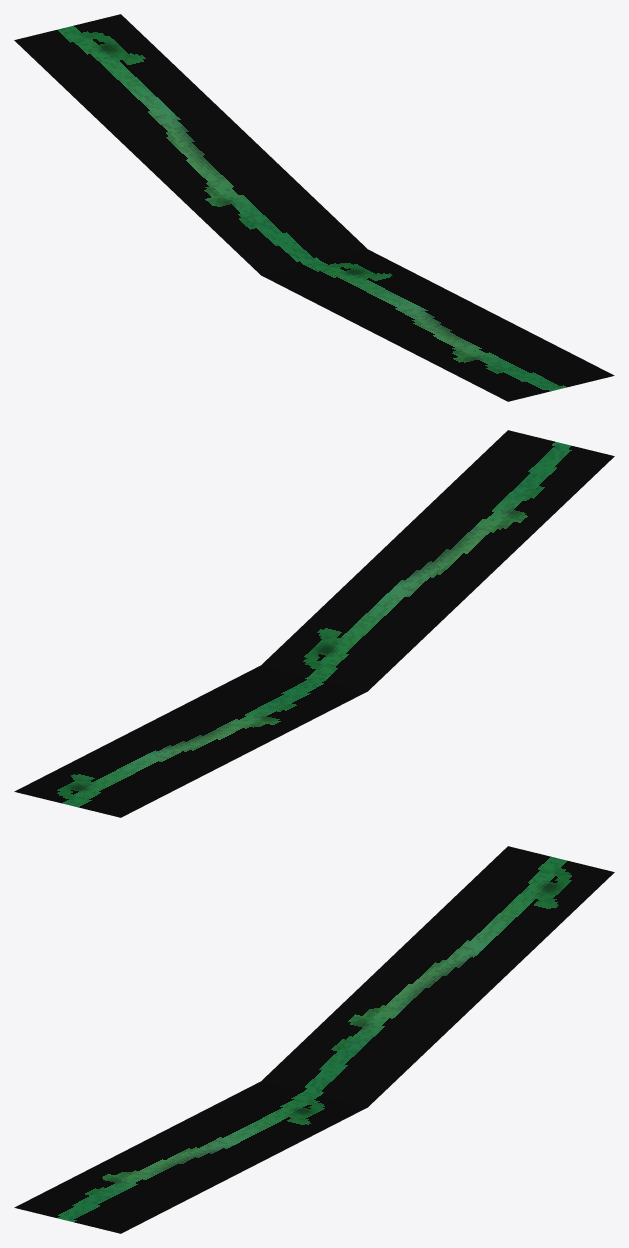
The model's file is bent_vines_1_thin.glb.
3 views of the same model, one above another, from view 1: azimuth 30°, elevation 25°; view 2: azimuth 150°, elevation 25°; view 3: azimuth 330°, elevation 25° (orthographic).
Visible parts, largest first — view 1: Bent Vines 1 Thin; view 2: Bent Vines 1 Thin; view 3: Bent Vines 1 Thin.
Part boxes in pixels (x1,y1,x2,y2): Bent Vines 1 Thin: (14, 14, 614, 401); Bent Vines 1 Thin: (14, 430, 614, 817); Bent Vines 1 Thin: (14, 846, 614, 1233).
Size of the model in its own units: 0.5 by 0.2429 by 4.
Materials: 1 (1 with a texture image).
